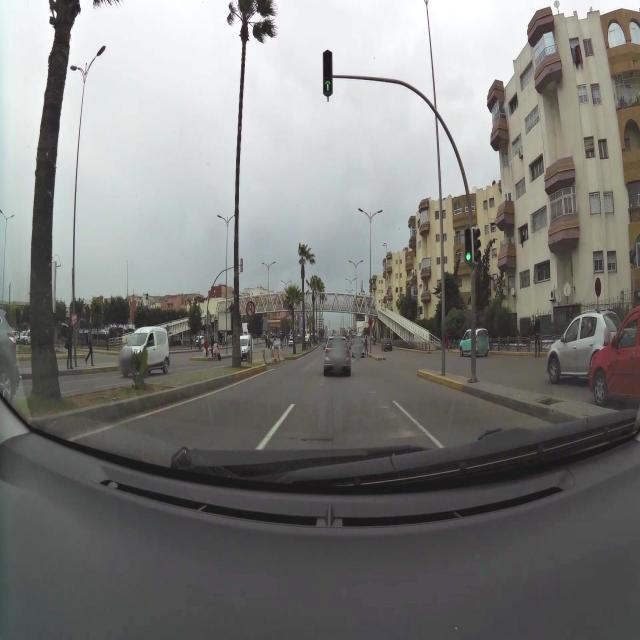car: (546, 309, 622, 385), (588, 299, 640, 408), (120, 325, 170, 376), (323, 334, 352, 376), (460, 327, 490, 357), (17, 328, 30, 345), (382, 337, 392, 352), (271, 336, 282, 349)
